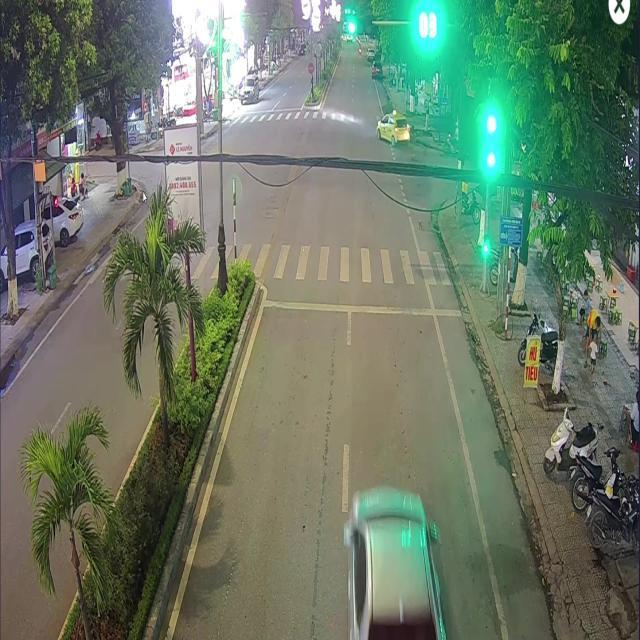car: (343, 487, 445, 638), (375, 108, 409, 143)
green_light: (346, 15, 373, 36), (486, 135, 495, 168), (483, 236, 487, 254)
stop_line: (263, 299, 460, 315)
